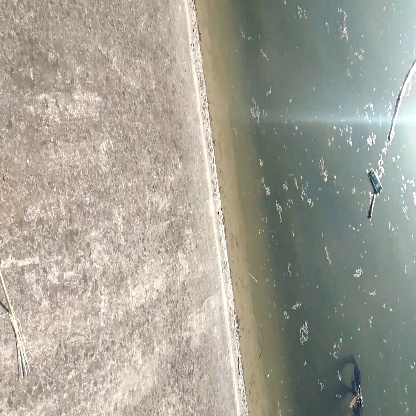branch: (388, 55, 416, 143)
milk-box: (363, 163, 389, 199)
